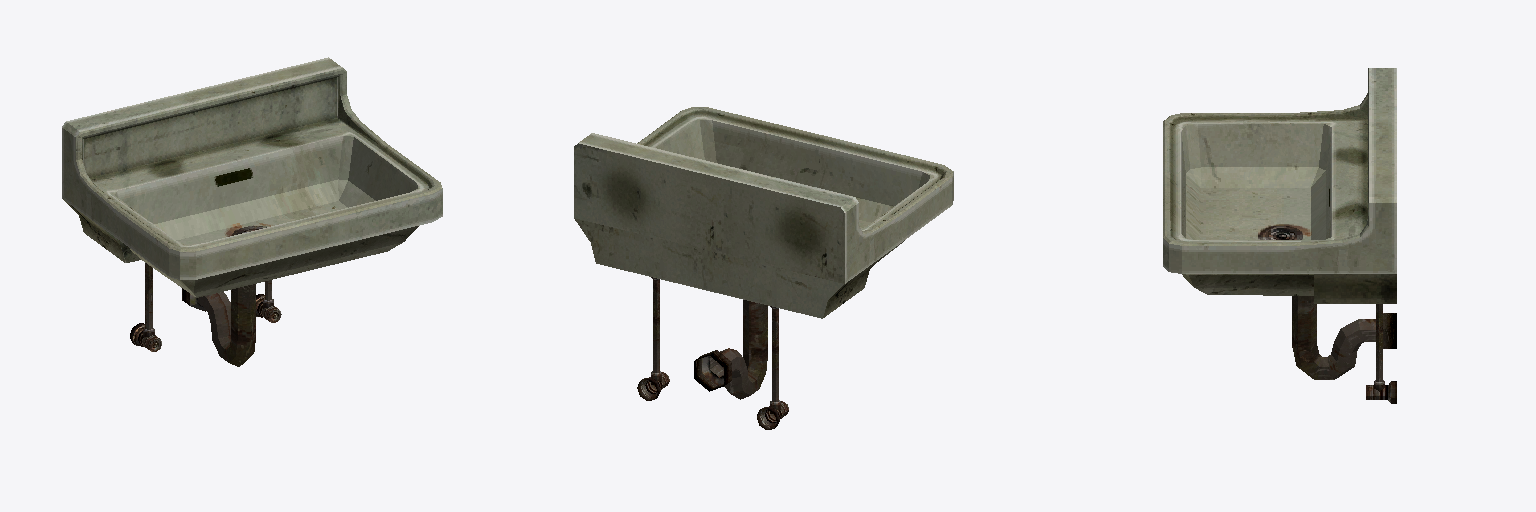
The picture shows the model from 3 angles: view 1: azimuth 30°, elevation 25°; view 2: azimuth 150°, elevation 25°; view 3: azimuth 270°, elevation 25°; orthographic projection.
Parts seen in each view (by area): view 1: sink01_obj_uni17_ag; view 2: sink01_obj_uni17_ag; view 3: sink01_obj_uni17_ag.
Part boxes in pixels (bbox=[...]): sink01_obj_uni17_ag: bbox=[62, 57, 442, 366]; sink01_obj_uni17_ag: bbox=[574, 107, 953, 429]; sink01_obj_uni17_ag: bbox=[1163, 68, 1396, 403].
Size of the model in its own units: 80 by 69.69 by 60.
Materials: 1 (1 with a texture image).